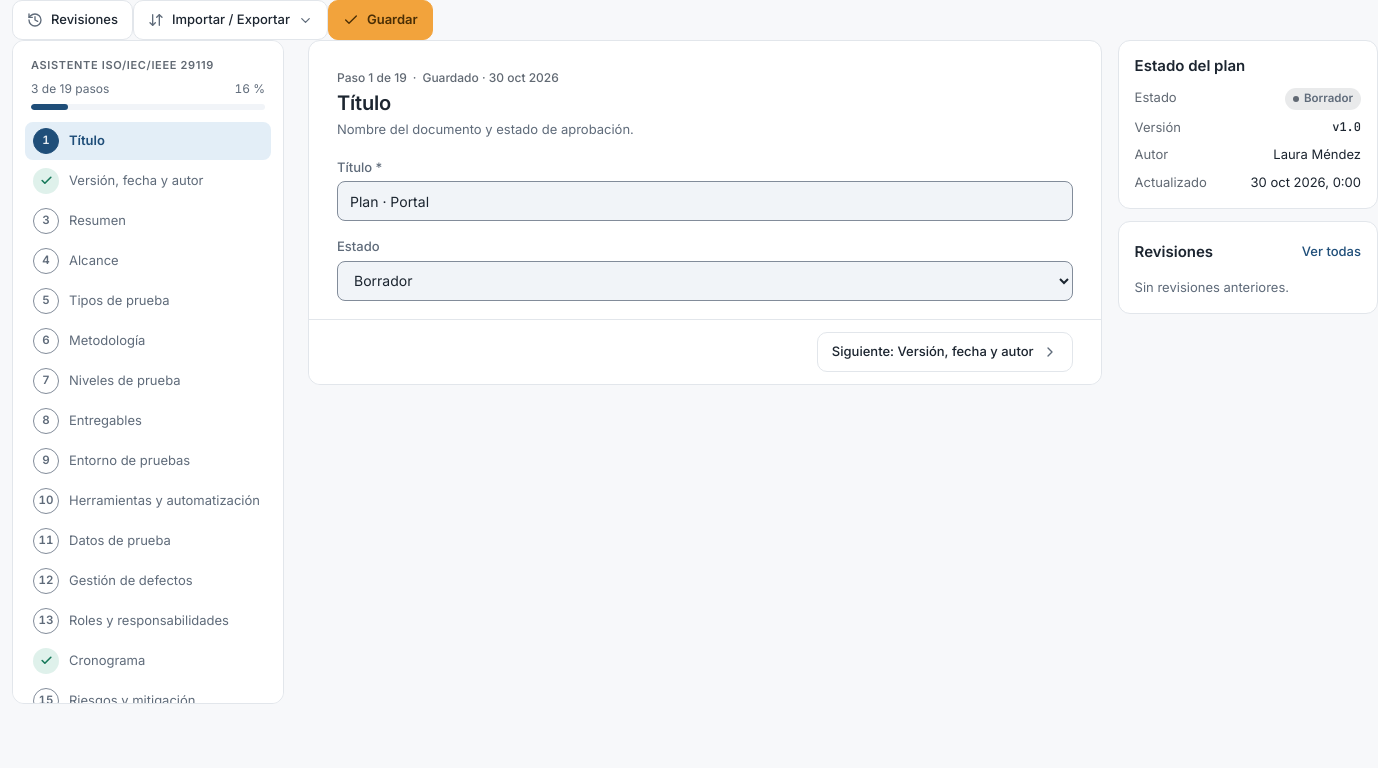
Test case: step 14 · Cronograma (RED-W5) › a legacy plan shows its rows in dd/mm/aaaa and its bands and diamonds in the day labels
Expected: the text "Paso 1 de 19" is shown, [337,69,407,87]
Click the button "Cronograma" at [148, 660], box [25,642,271,680]
(page scrolled)
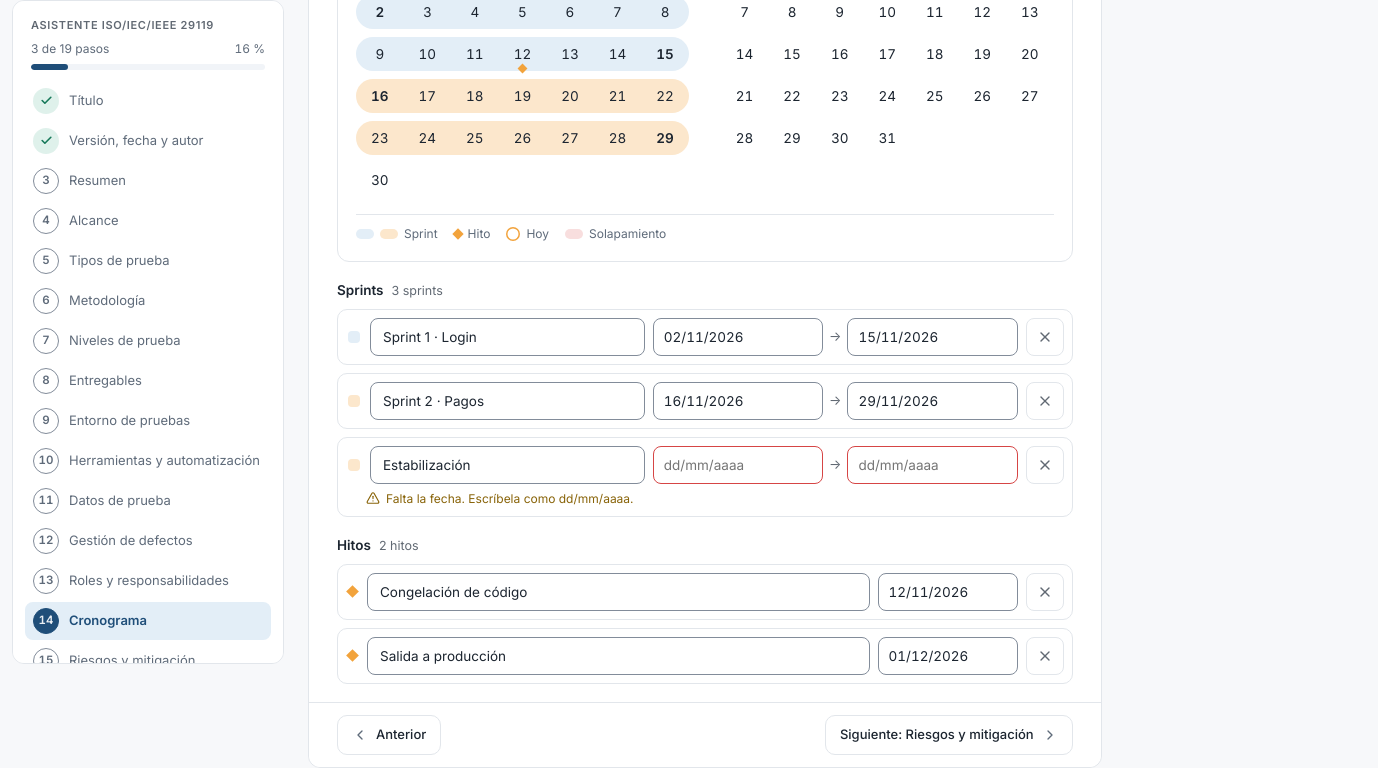
Expected: the 1st field named "Nombre del sprint" holds "Sprint 1 · Login", [370,318,645,356]
Expected: the field named "Inicio" holds "02/11/2026", [653,318,823,356]
Expected: the field named "Fin" holds "15/11/2026", [847,318,1018,356]
